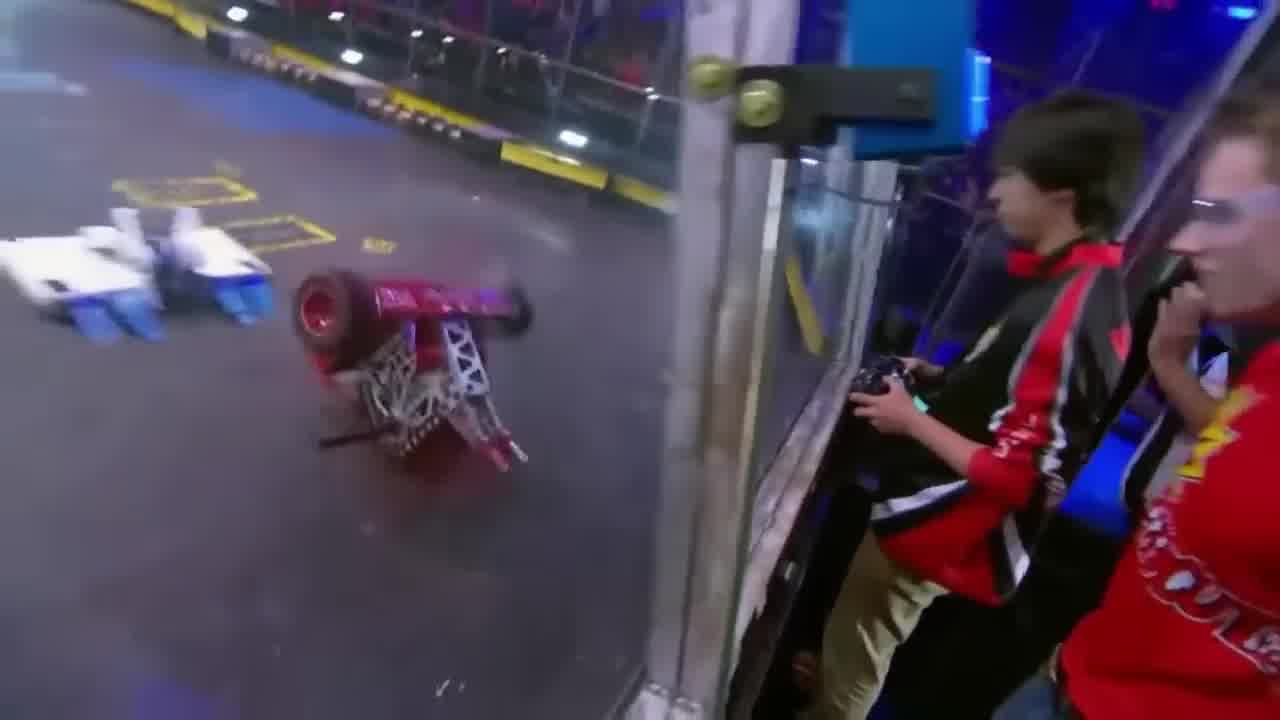combatbot: (293, 266, 536, 504), (4, 207, 281, 344)
